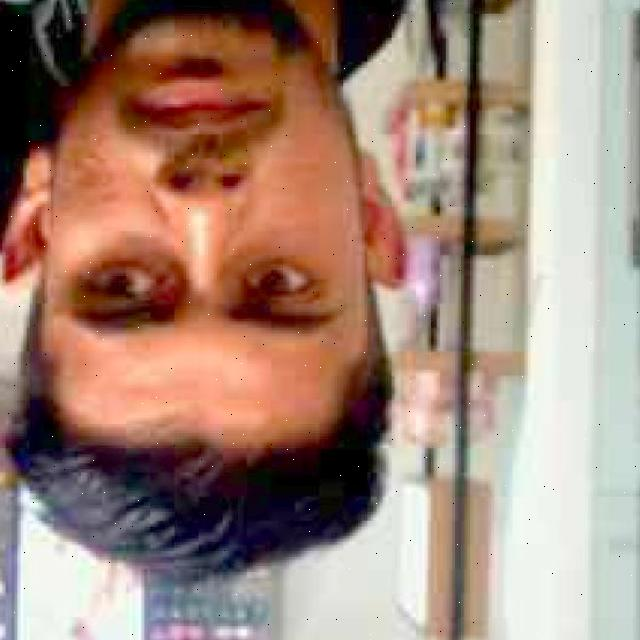puffy_eyes: (104, 235, 191, 301), (81, 146, 110, 180)
